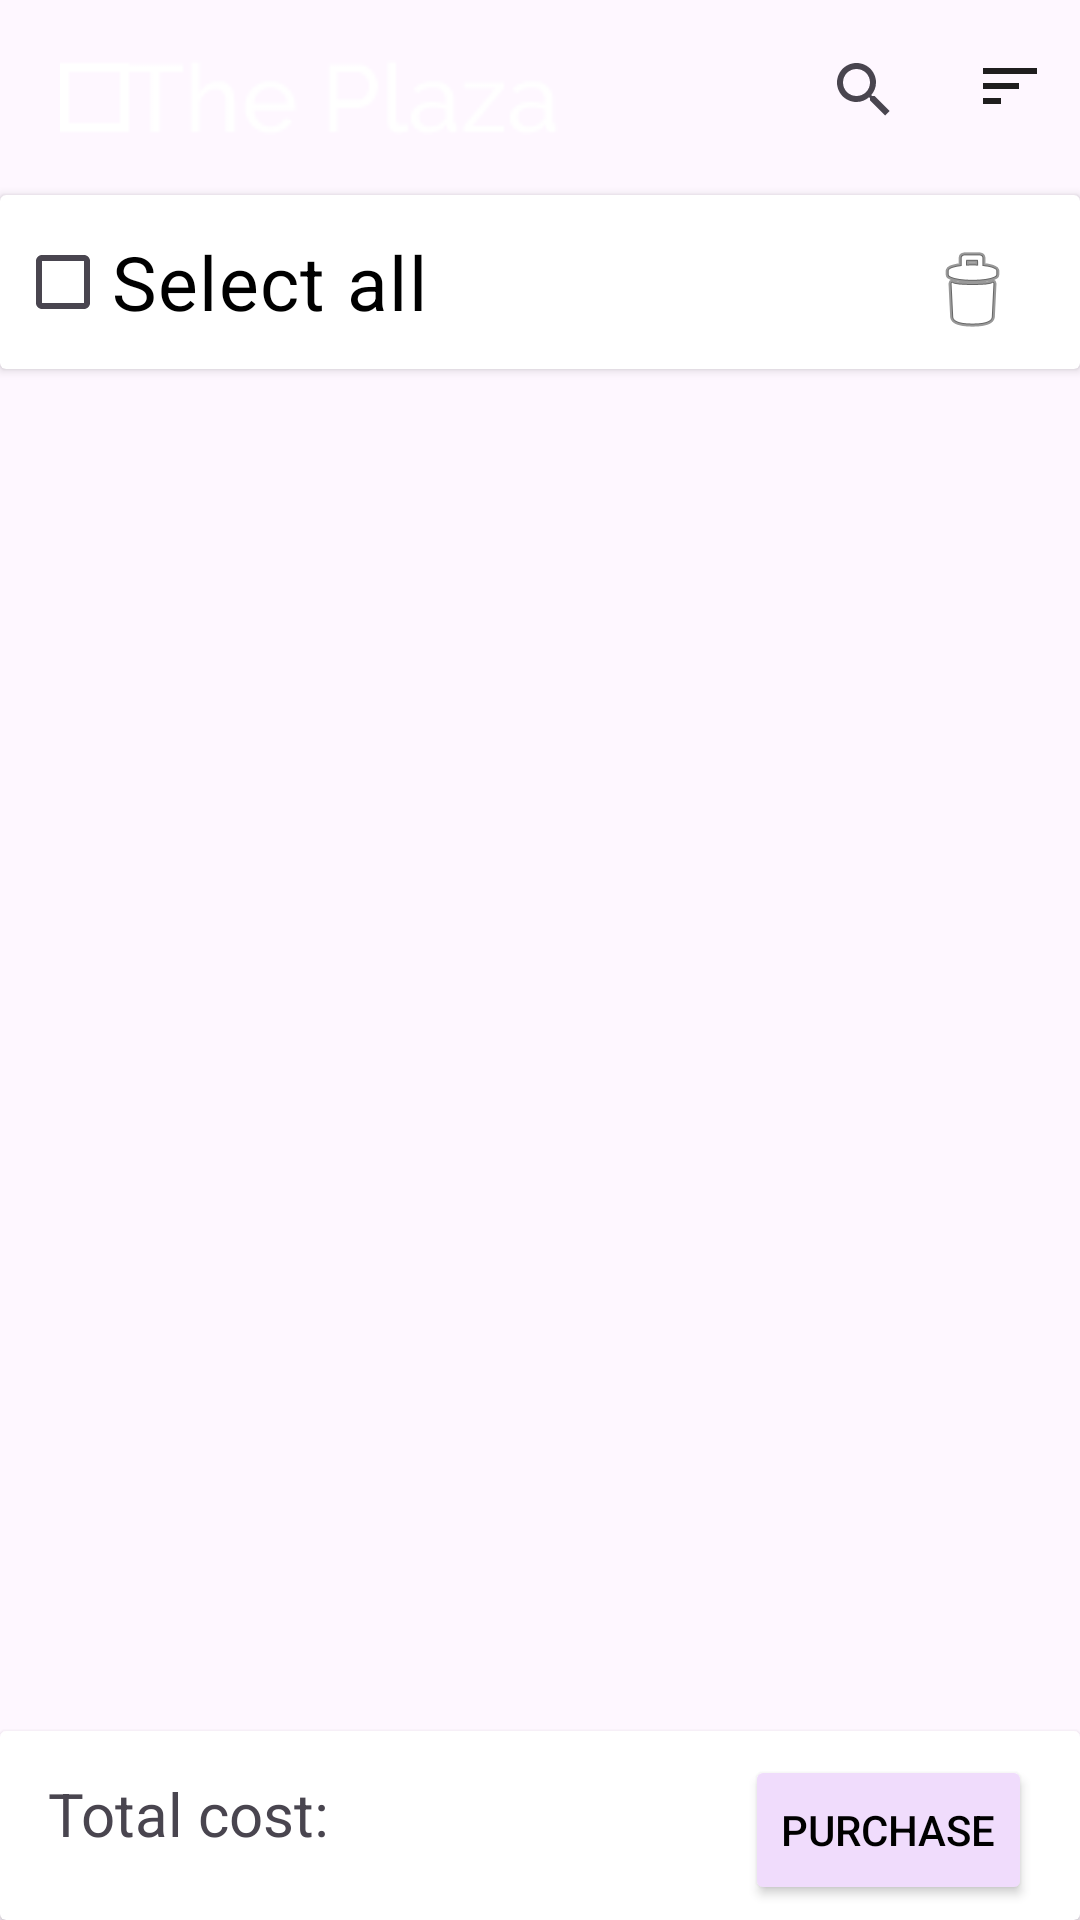

Named icons in this screenshot (1080x1920) and their centers, (x,y):
delete: (972,289)
sort: (1010,86)
